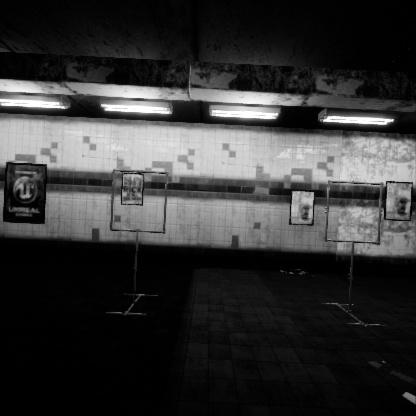gate: (110, 181, 173, 247), (325, 171, 388, 236)
